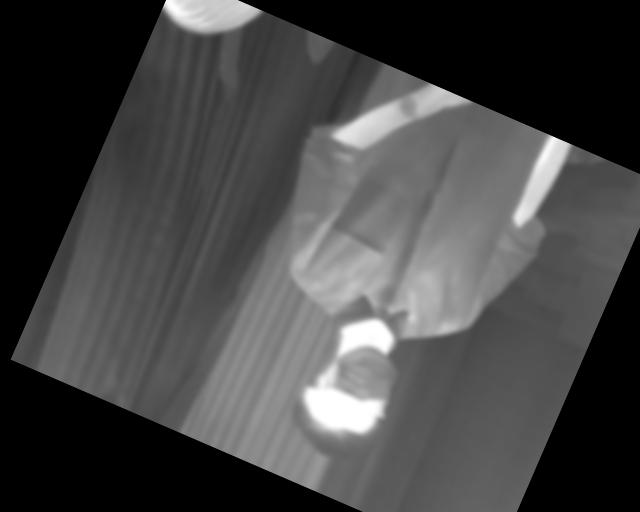face: (278, 326, 410, 473)
